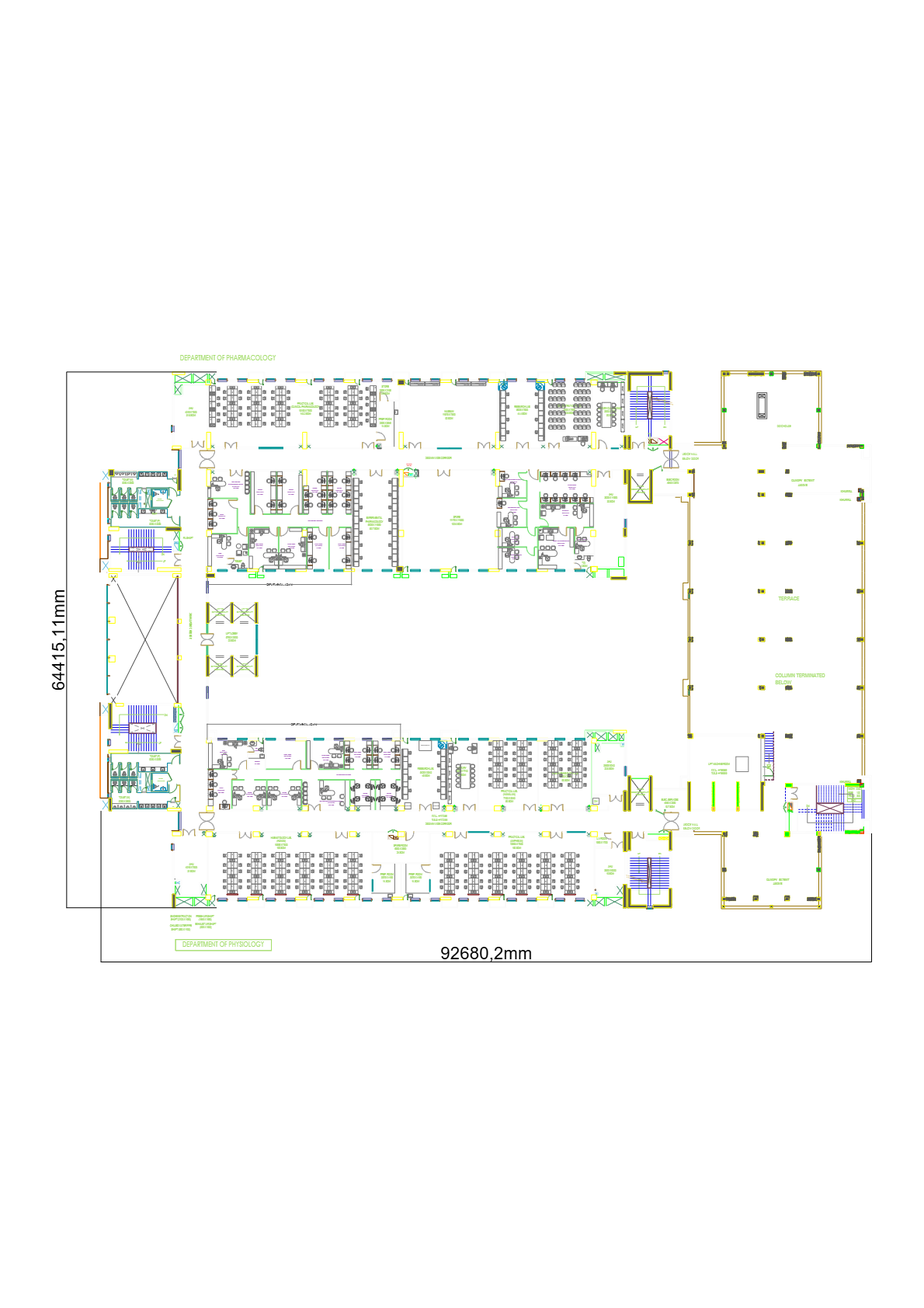door: (199, 449, 215, 469), (663, 812, 680, 830), (663, 450, 680, 468), (199, 812, 215, 830), (200, 633, 215, 646), (632, 441, 645, 450), (550, 804, 564, 812), (631, 831, 645, 839), (369, 469, 383, 477), (437, 469, 451, 477), (174, 735, 182, 748), (174, 553, 182, 566), (230, 469, 243, 477), (225, 442, 238, 450), (239, 831, 252, 839), (335, 831, 348, 839), (454, 831, 467, 839), (609, 794, 622, 802), (790, 787, 798, 800), (597, 470, 610, 478), (550, 831, 563, 839), (228, 499, 238, 509), (405, 831, 415, 841), (421, 864, 431, 874), (598, 439, 608, 449), (376, 431, 386, 441), (379, 392, 389, 402), (292, 759, 301, 770), (191, 441, 205, 448), (182, 829, 196, 836), (477, 442, 491, 449), (408, 442, 422, 449), (611, 841, 623, 849), (362, 442, 374, 450), (419, 804, 432, 811), (463, 804, 476, 811), (523, 804, 536, 811), (516, 442, 529, 449), (308, 804, 321, 811), (239, 527, 248, 537), (269, 527, 278, 537), (319, 527, 328, 537), (371, 864, 381, 873), (529, 470, 538, 480), (518, 500, 527, 510), (525, 547, 535, 556), (575, 527, 584, 537), (558, 527, 567, 537), (764, 767, 774, 776), (171, 517, 180, 526), (290, 505, 299, 514), (238, 760, 247, 769), (540, 518, 549, 527), (527, 528, 536, 537), (280, 527, 288, 537), (331, 527, 339, 537), (311, 759, 319, 769), (169, 785, 177, 794), (171, 755, 179, 764), (255, 505, 263, 514), (548, 443, 560, 449), (518, 472, 527, 480), (231, 770, 238, 780), (169, 487, 177, 495), (112, 488, 119, 496), (130, 510, 137, 518), (121, 510, 128, 518), (112, 510, 119, 518), (112, 763, 119, 771), (121, 763, 128, 771), (130, 785, 137, 793), (121, 785, 128, 793), (112, 785, 119, 793), (227, 558, 235, 565), (604, 833, 612, 840), (574, 562, 582, 569), (247, 746, 255, 753), (121, 488, 128, 495), (130, 488, 137, 495), (130, 763, 137, 770), (450, 379, 457, 386), (402, 566, 409, 572), (451, 565, 457, 572), (499, 379, 505, 386), (141, 787, 147, 793), (586, 566, 592, 572), (258, 894, 264, 900), (306, 894, 312, 900), (354, 894, 360, 900), (402, 894, 408, 900), (499, 894, 505, 900), (547, 894, 553, 900), (402, 738, 408, 744), (450, 738, 456, 744), (258, 566, 264, 572), (306, 379, 312, 385), (547, 379, 553, 385), (258, 379, 264, 385), (258, 737, 263, 744), (355, 379, 360, 386), (142, 488, 147, 494), (404, 380, 409, 386), (210, 379, 216, 384), (170, 797, 176, 802), (210, 895, 216, 900)
